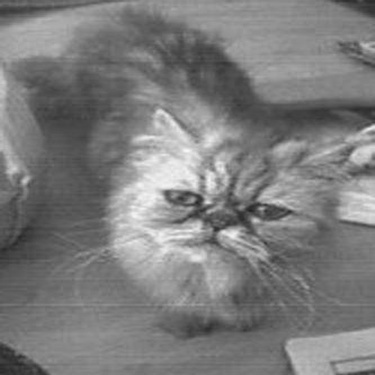cat: (23, 9, 358, 358)
